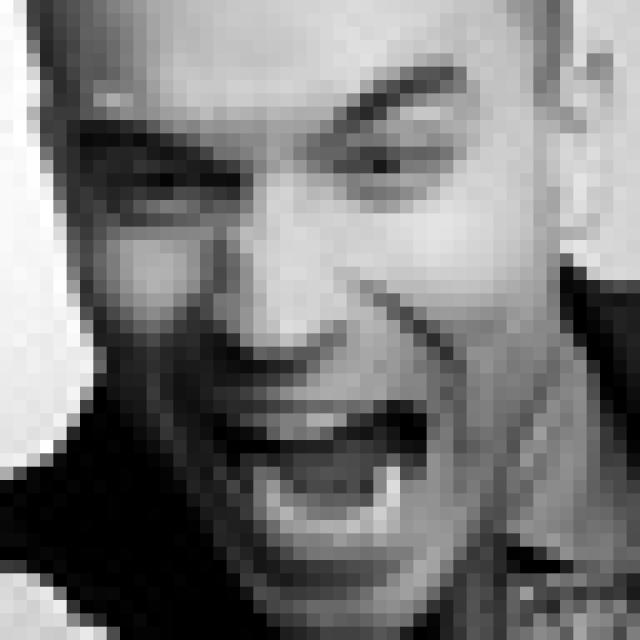angry: (81, 52, 481, 587)
